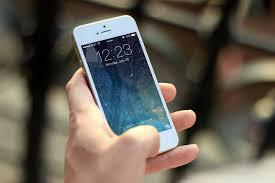Hand: (55, 72, 221, 183)
Smartphone: (73, 22, 180, 164)
